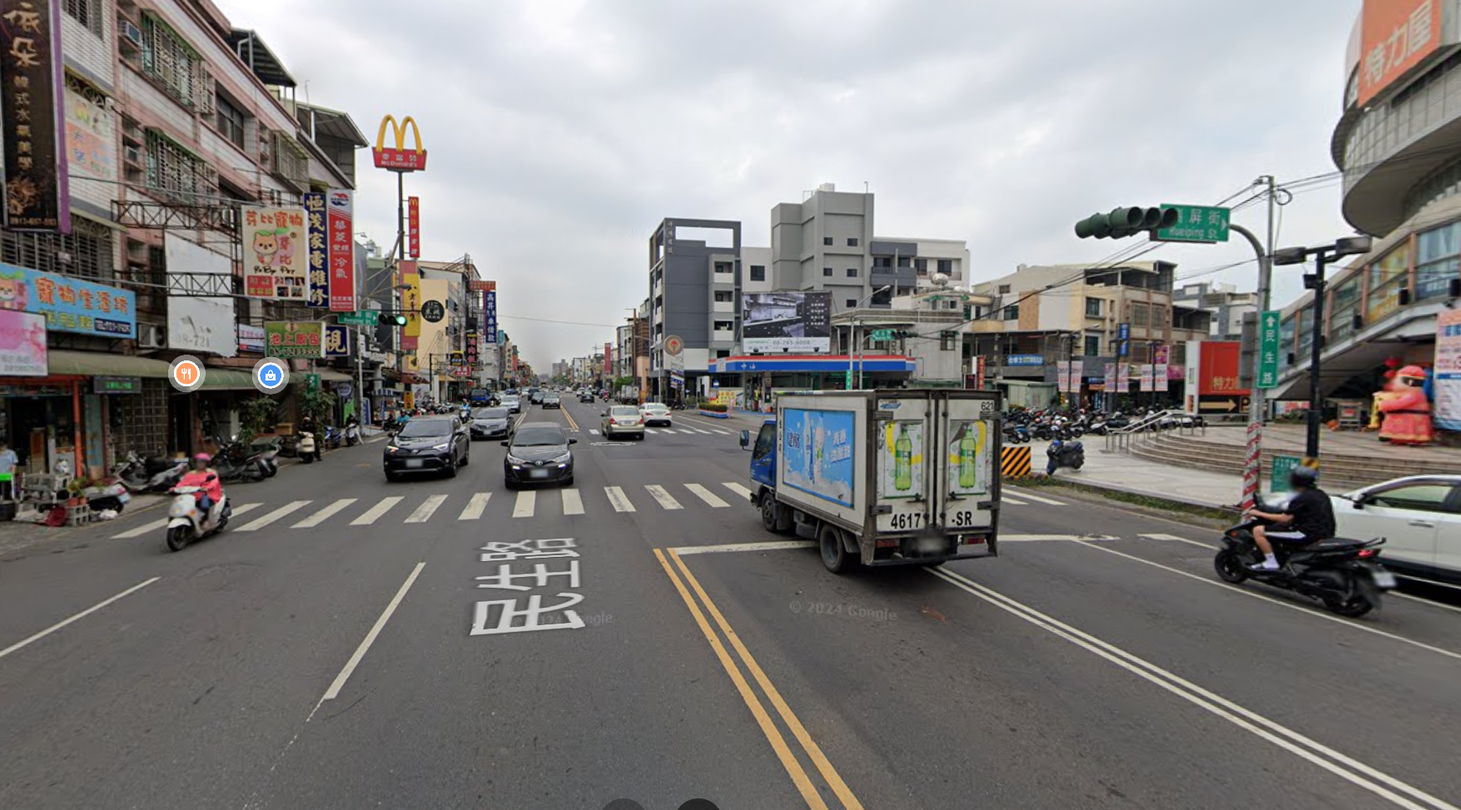green: (373, 308, 422, 332)
